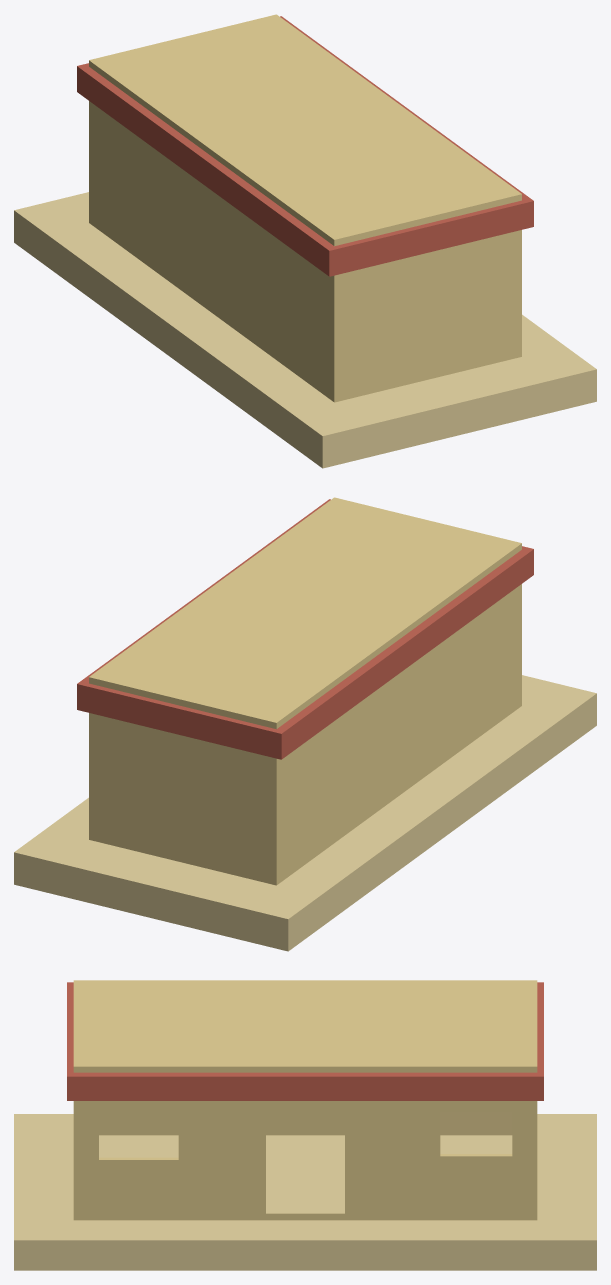
Rendered from House1.fbx.
3 renders of one model, top to bottom at view 1: azimuth 30°, elevation 25°; view 2: azimuth 150°, elevation 25°; view 3: azimuth 270°, elevation 25°, orthographic. The views are drawn at different scales.
Parts seen in each view (by area): view 1: Cube.014; view 2: Cube.014; view 3: Cube.014.
Part boxes in pixels (<box>): Cube.014: <box>14,14,596,468</box>; Cube.014: <box>14,497,596,951</box>; Cube.014: <box>14,980,596,1270</box>.
Bounding box in the file's own units: 584 × 397 × 1139.
